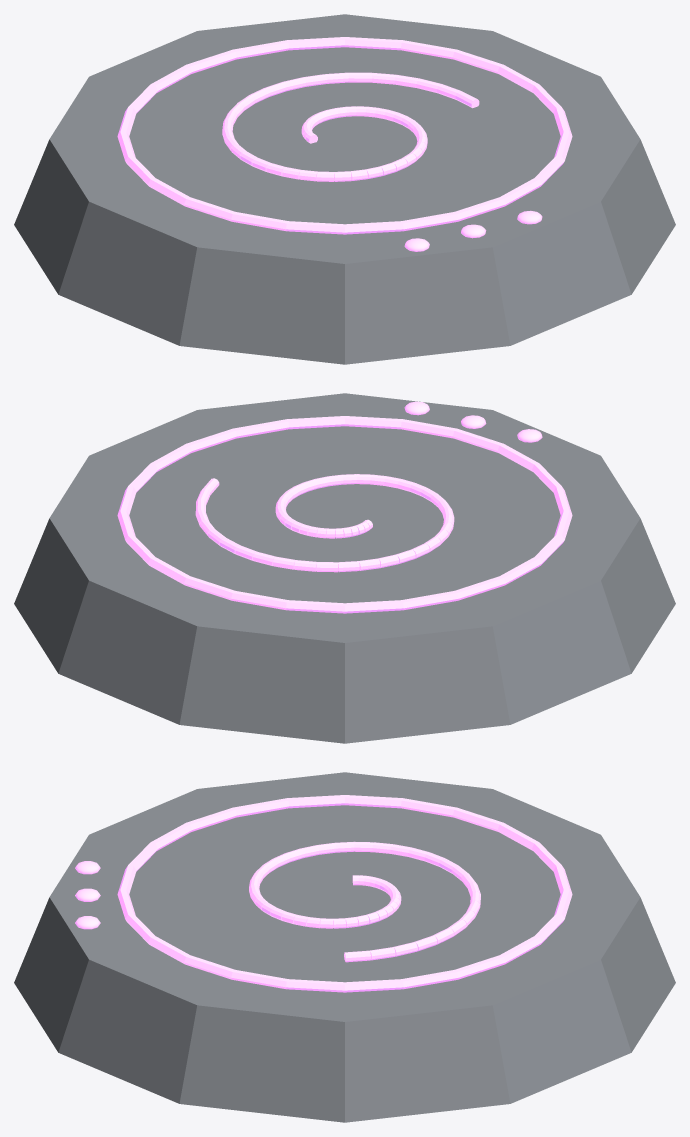
File: secret-rune.glb
The picture shows the model from 3 angles, top to bottom: view 1: azimuth 30°, elevation 25°; view 2: azimuth 150°, elevation 25°; view 3: azimuth 270°, elevation 25°; orthographic projection.
Parts seen in each view (by area): view 1: secret-rune; view 2: secret-rune; view 3: secret-rune.
Part boxes in pixels (left/top/right/bottom): secret-rune: left=14, top=14, right=675, bottom=364; secret-rune: left=14, top=393, right=675, bottom=743; secret-rune: left=14, top=772, right=675, bottom=1122.
Bounding box in the file's own units: 1.12 × 0.175 × 1.12.
